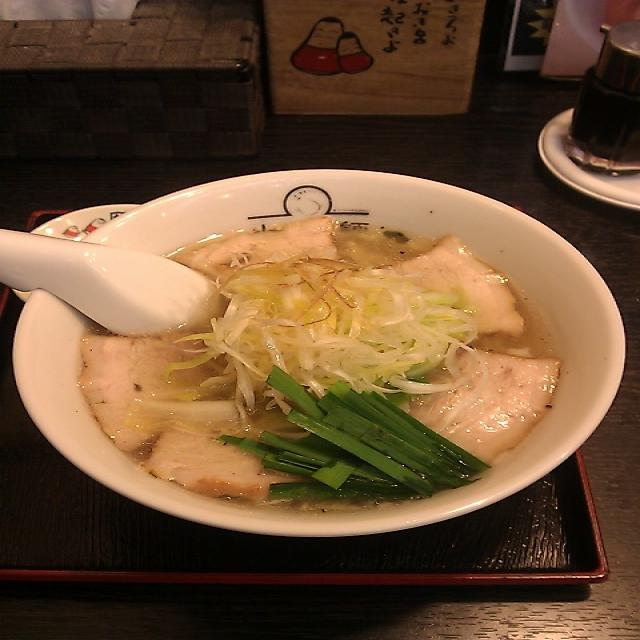面条主食: (13, 167, 627, 538)
